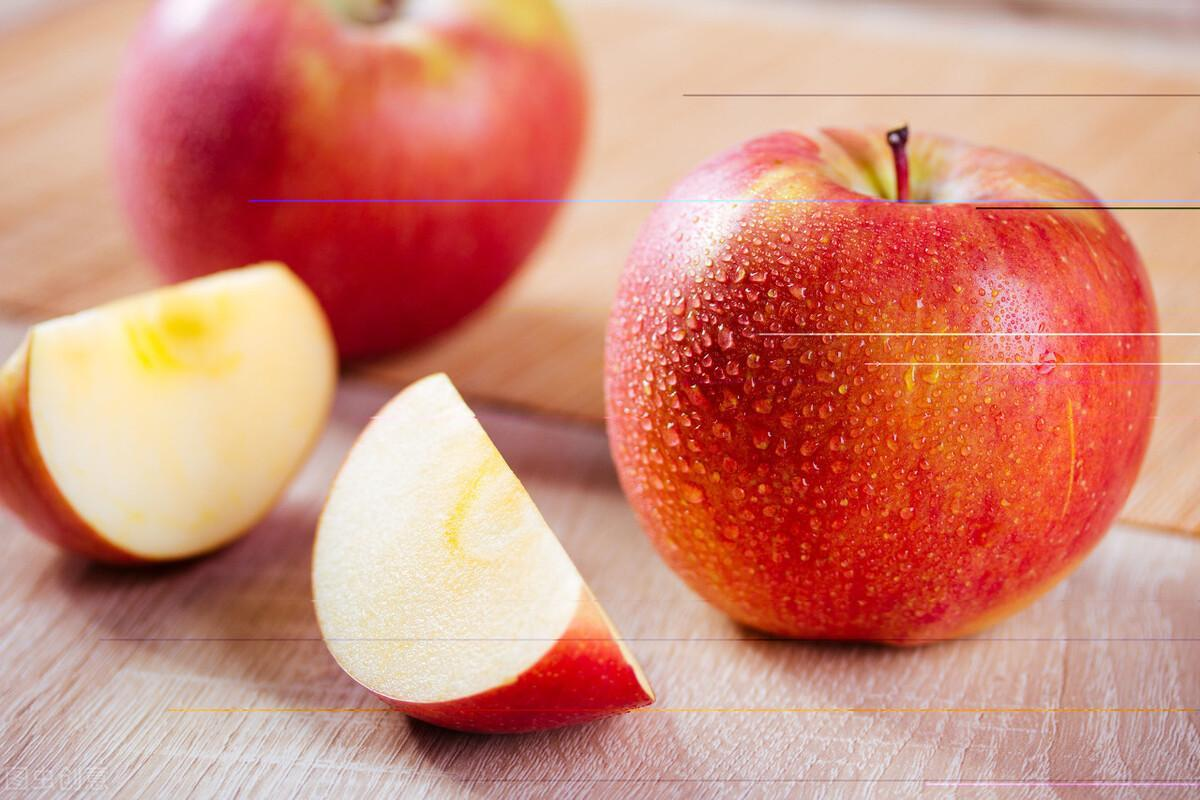apple: (604, 125, 1167, 645), (108, 1, 597, 361), (310, 367, 660, 731), (2, 262, 337, 569)
